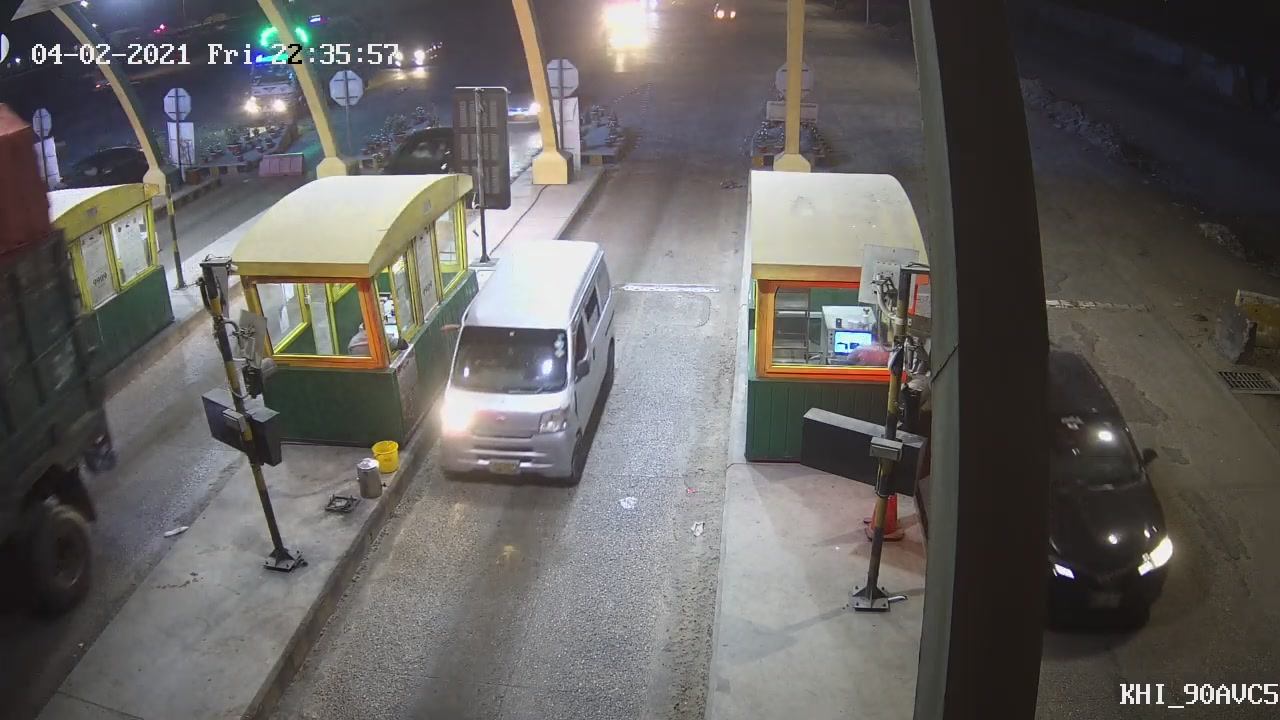F1: (434, 236, 620, 496)
